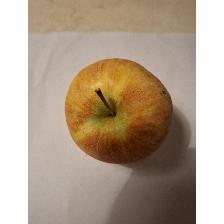Apfel: (60, 54, 176, 166)
